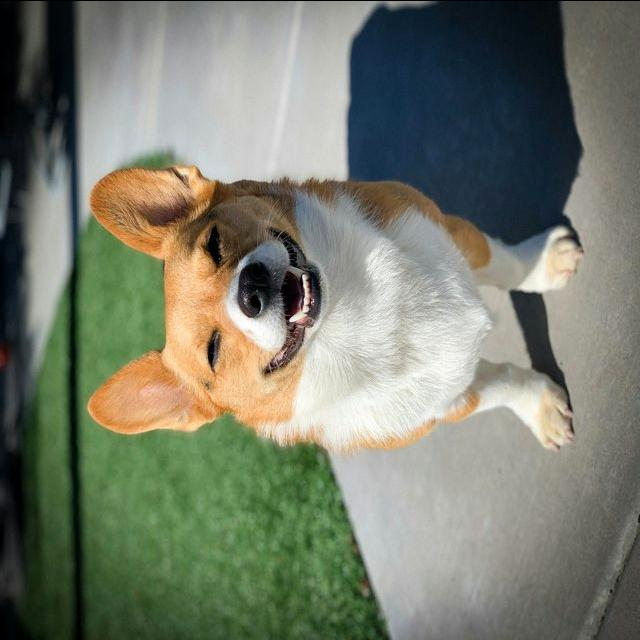corgi: (84, 162, 583, 455)
